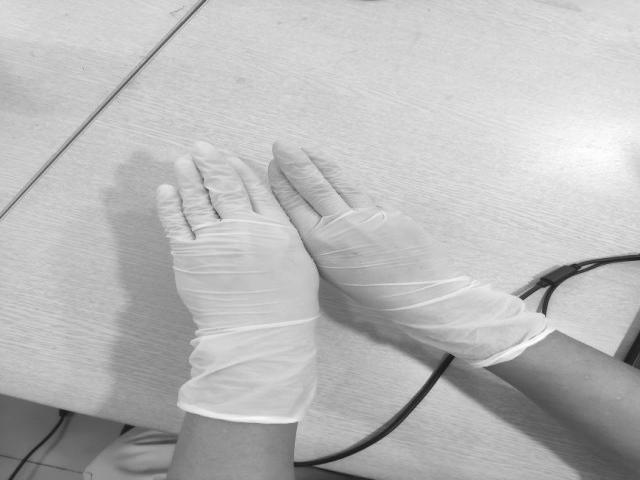gloved: (156, 146, 318, 334), (266, 139, 450, 291)
